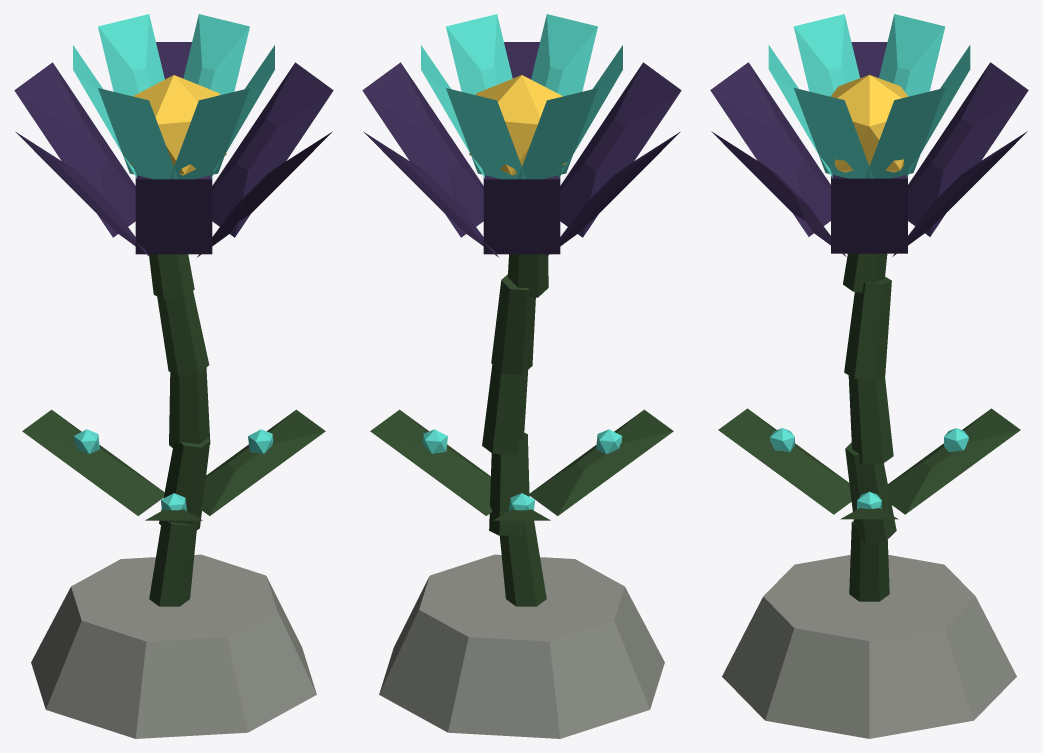
Rendered from bloom.glb.
3 renders of one model, left to right at view 1: azimuth 30°, elevation 25°; view 2: azimuth 150°, elevation 25°; view 3: azimuth 270°, elevation 25°, orthographic.
Parts seen in each view (by area): view 1: stem, fx_glow; view 2: stem, fx_glow; view 3: stem, fx_glow.
Boxes of the visible parts, x1=… form: stem: x1=14, y1=42, x2=333, y2=738; fx_glow: x1=73, y1=14, x2=274, y2=510; stem: x1=362, y1=42, x2=681, y2=738; fx_glow: x1=421, y1=14, x2=622, y2=510; stem: x1=710, y1=42, x2=1028, y2=738; fx_glow: x1=768, y1=14, x2=970, y2=509.
Bounding box in the file's own units: 1.1 × 2.32 × 1.08.
Materials: 1 (1 with a texture image).
